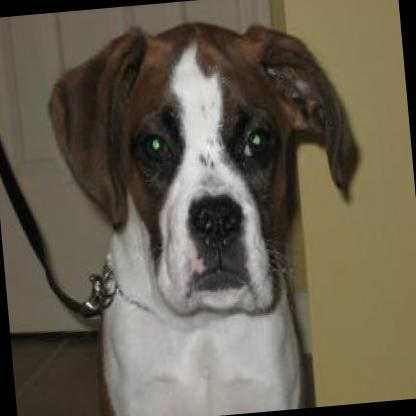boxer: (40, 5, 384, 416)
